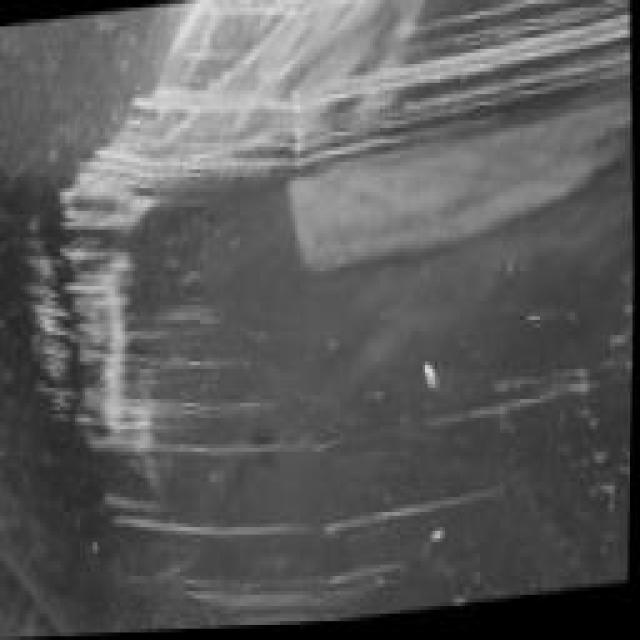Bumper: (12, 0, 640, 639)
